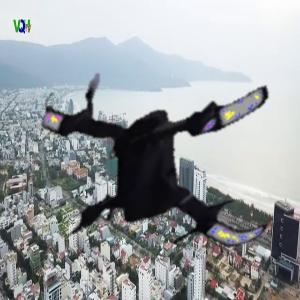drone: (12, 22, 290, 300)
